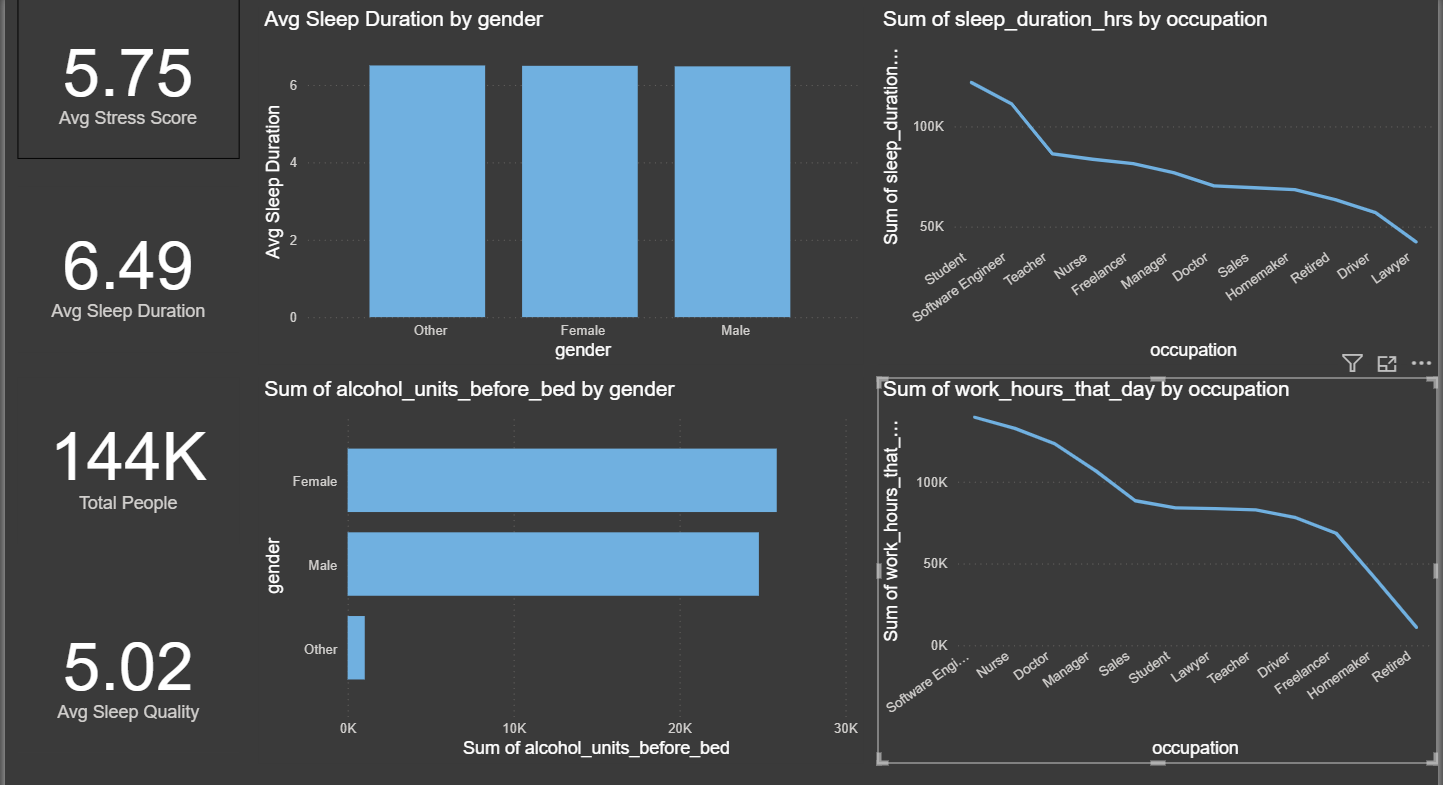

Layout of this report page (visuals, bound fields, positions):
{"tool":"powerbi","page":{"name":"Page 1","canvas":[1280,720],"ordinal":0},"visuals":[{"type":"card","fields":{"Values":["sleep_health_data.Avg Sleep Duration"]},"box":[10.8,170.5,198.1,148.9],"z":0},{"type":"card","fields":{"Values":["sleep_health_data.Avg Stress Score"]},"box":[10.8,0,198.1,146.5],"z":1000},{"type":"card","fields":{"Values":["sleep_health_data.Avg Sleep Quality"]},"box":[10.8,530.7,198.1,146.5],"z":1500},{"type":"card","fields":{"Values":["sleep_health_data.Total People"]},"box":[10.8,342.2,198.1,148.9],"z":2000},{"type":"clusteredColumnChart","fields":{"Category":["sleep_health_data.gender"],"Y":["sleep_health_data.Avg Sleep Duration"]},"box":[226.9,10.8,540.3,319.4],"z":2001},{"type":"lineChart","fields":{"Y":["Sum(sleep_health_data.sleep_duration_hrs)"],"Category":["sleep_health_data.occupation"]},"box":[779.3,10.8,500.7,319.4],"z":2002},{"type":"barChart","fields":{"Y":["Sum(sleep_health_data.alcohol_units_before_bed)"],"Category":["sleep_health_data.gender"]},"box":[226.9,342.2,540.3,344.6],"z":2003},{"type":"stackedAreaChart","fields":{"Category":["sleep_health_data.occupation"],"Y":["Sum(sleep_health_data.work_hours_that_day)"]},"box":[779,342,501,345],"z":2004}]}

Visuals, with their boxes in screenshot pixels (x1, y1, x2, y2):
card - sleep_health_data.Avg Sleep Duration: {"x1": 68, "y1": 195, "x2": 281, "y2": 355}
card - sleep_health_data.Avg Stress Score: {"x1": 68, "y1": 11, "x2": 281, "y2": 169}
card - sleep_health_data.Avg Sleep Quality: {"x1": 68, "y1": 582, "x2": 281, "y2": 740}
card - sleep_health_data.Total People: {"x1": 68, "y1": 379, "x2": 281, "y2": 540}
clusteredColumnChart - sleep_health_data.gender x sleep_health_data.Avg Sleep Duration: {"x1": 300, "y1": 23, "x2": 882, "y2": 366}
lineChart - Sum(sleep_health_data.sleep_duration_hrs) x sleep_health_data.occupation: {"x1": 895, "y1": 23, "x2": 1433, "y2": 366}
barChart - Sum(sleep_health_data.alcohol_units_before_bed) x sleep_health_data.gender: {"x1": 300, "y1": 379, "x2": 882, "y2": 750}
stackedAreaChart - sleep_health_data.occupation x Sum(sleep_health_data.work_hours_that_day): {"x1": 894, "y1": 379, "x2": 1433, "y2": 750}
